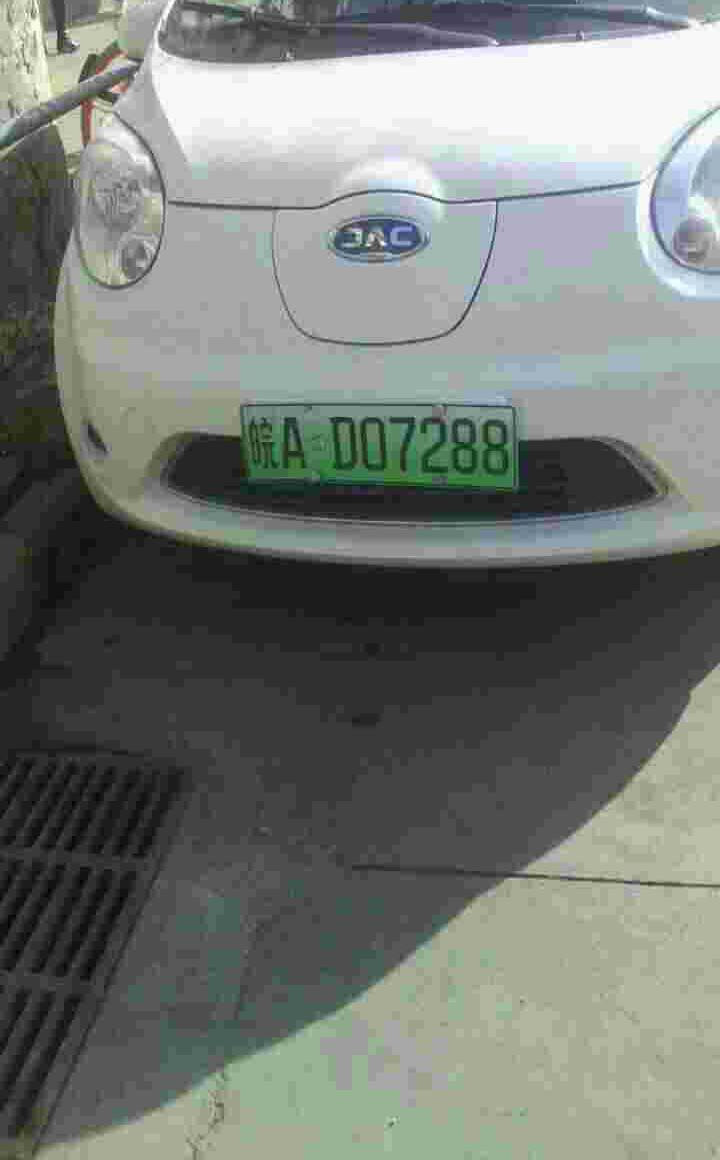car: (234, 394, 531, 490)
